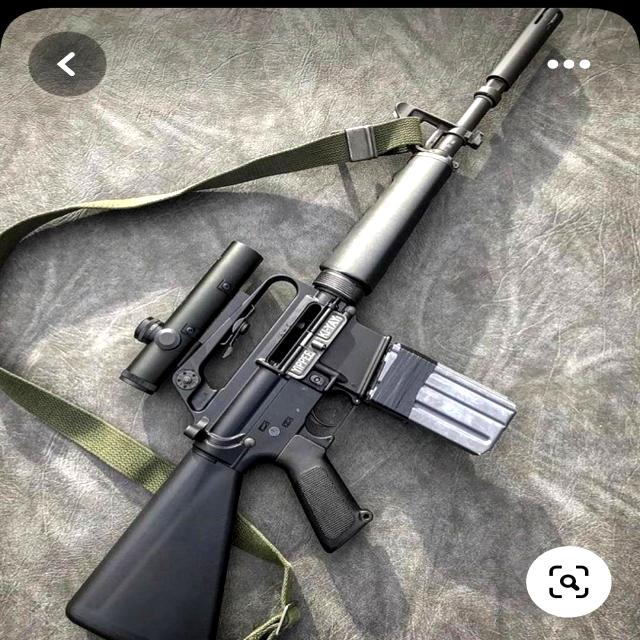m16: (245, 36, 567, 502)
